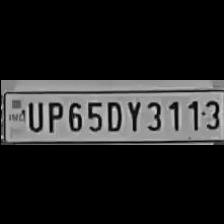1: (164, 97, 182, 131), (182, 96, 200, 130)
3: (142, 96, 162, 132), (202, 94, 220, 130)
5: (84, 97, 103, 130)
6: (64, 97, 82, 130)
D: (103, 98, 123, 132)
P: (43, 98, 63, 132)
U: (23, 97, 43, 130)
Y: (122, 96, 142, 132)
